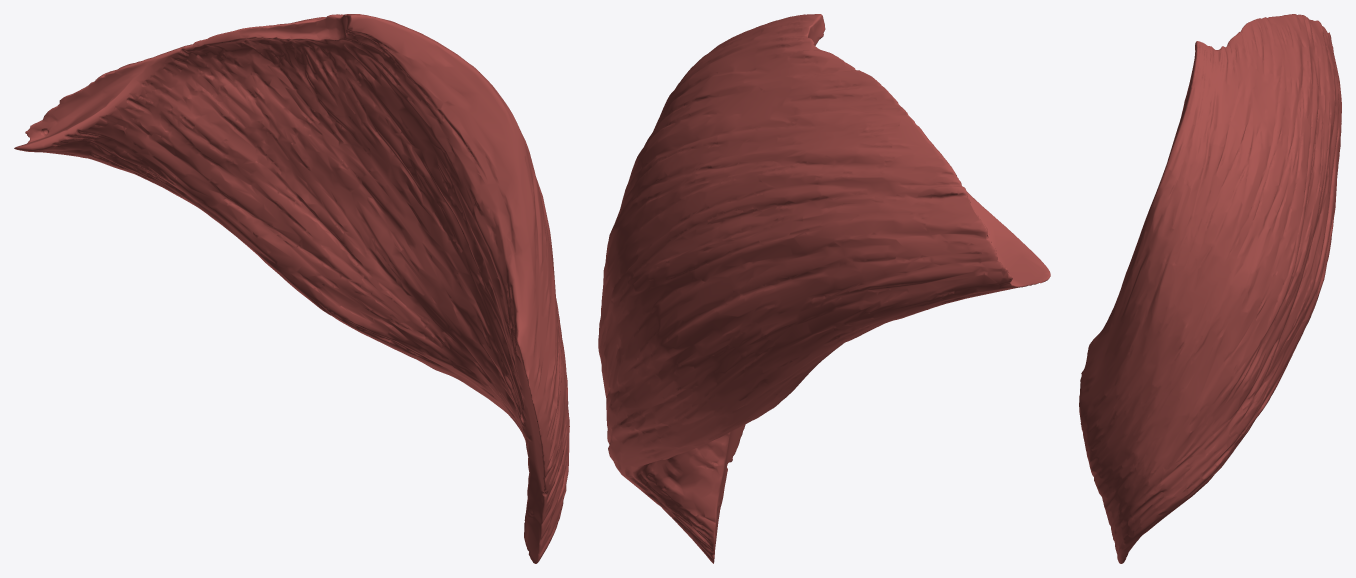
The model's file is FMA34685.glb.
The picture shows the model from 3 angles, left to right: view 1: azimuth 30°, elevation 25°; view 2: azimuth 150°, elevation 25°; view 3: azimuth 270°, elevation 25°; orthographic projection. The views are drawn at different scales.
Visible parts, largest first — view 1: FMA34685; view 2: FMA34685; view 3: FMA34685.
Part boxes in pixels (x1=…): FMA34685: x1=14, y1=14, x2=569, y2=563; FMA34685: x1=598, y1=14, x2=1050, y2=563; FMA34685: x1=1079, y1=14, x2=1341, y2=563.
Bounding box in the file's own units: 0.1321 × 0.1513 × 0.0774.
